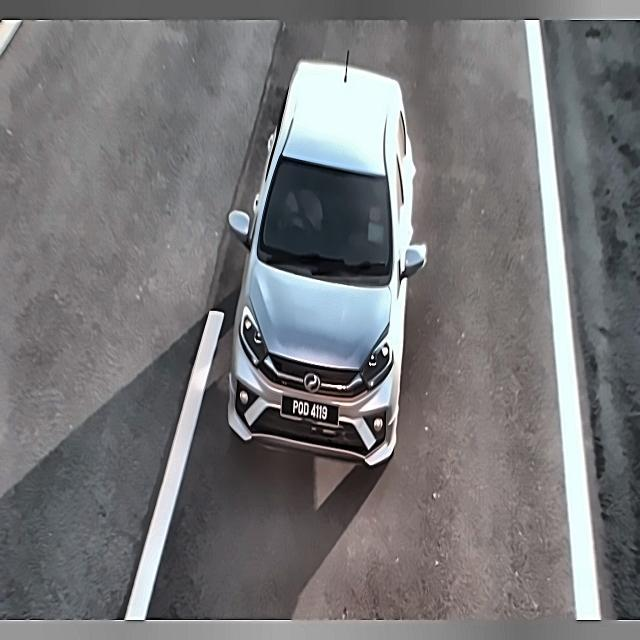car: (277, 391, 340, 431)
